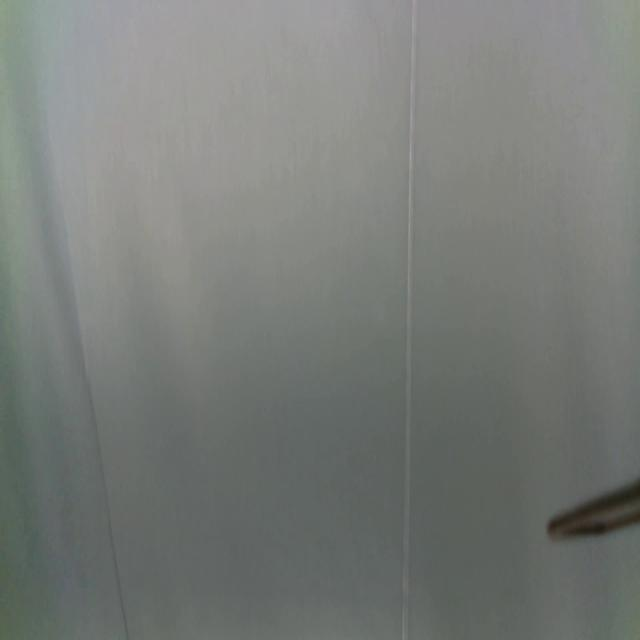crease: (46, 113, 132, 640), (400, 0, 419, 640)
